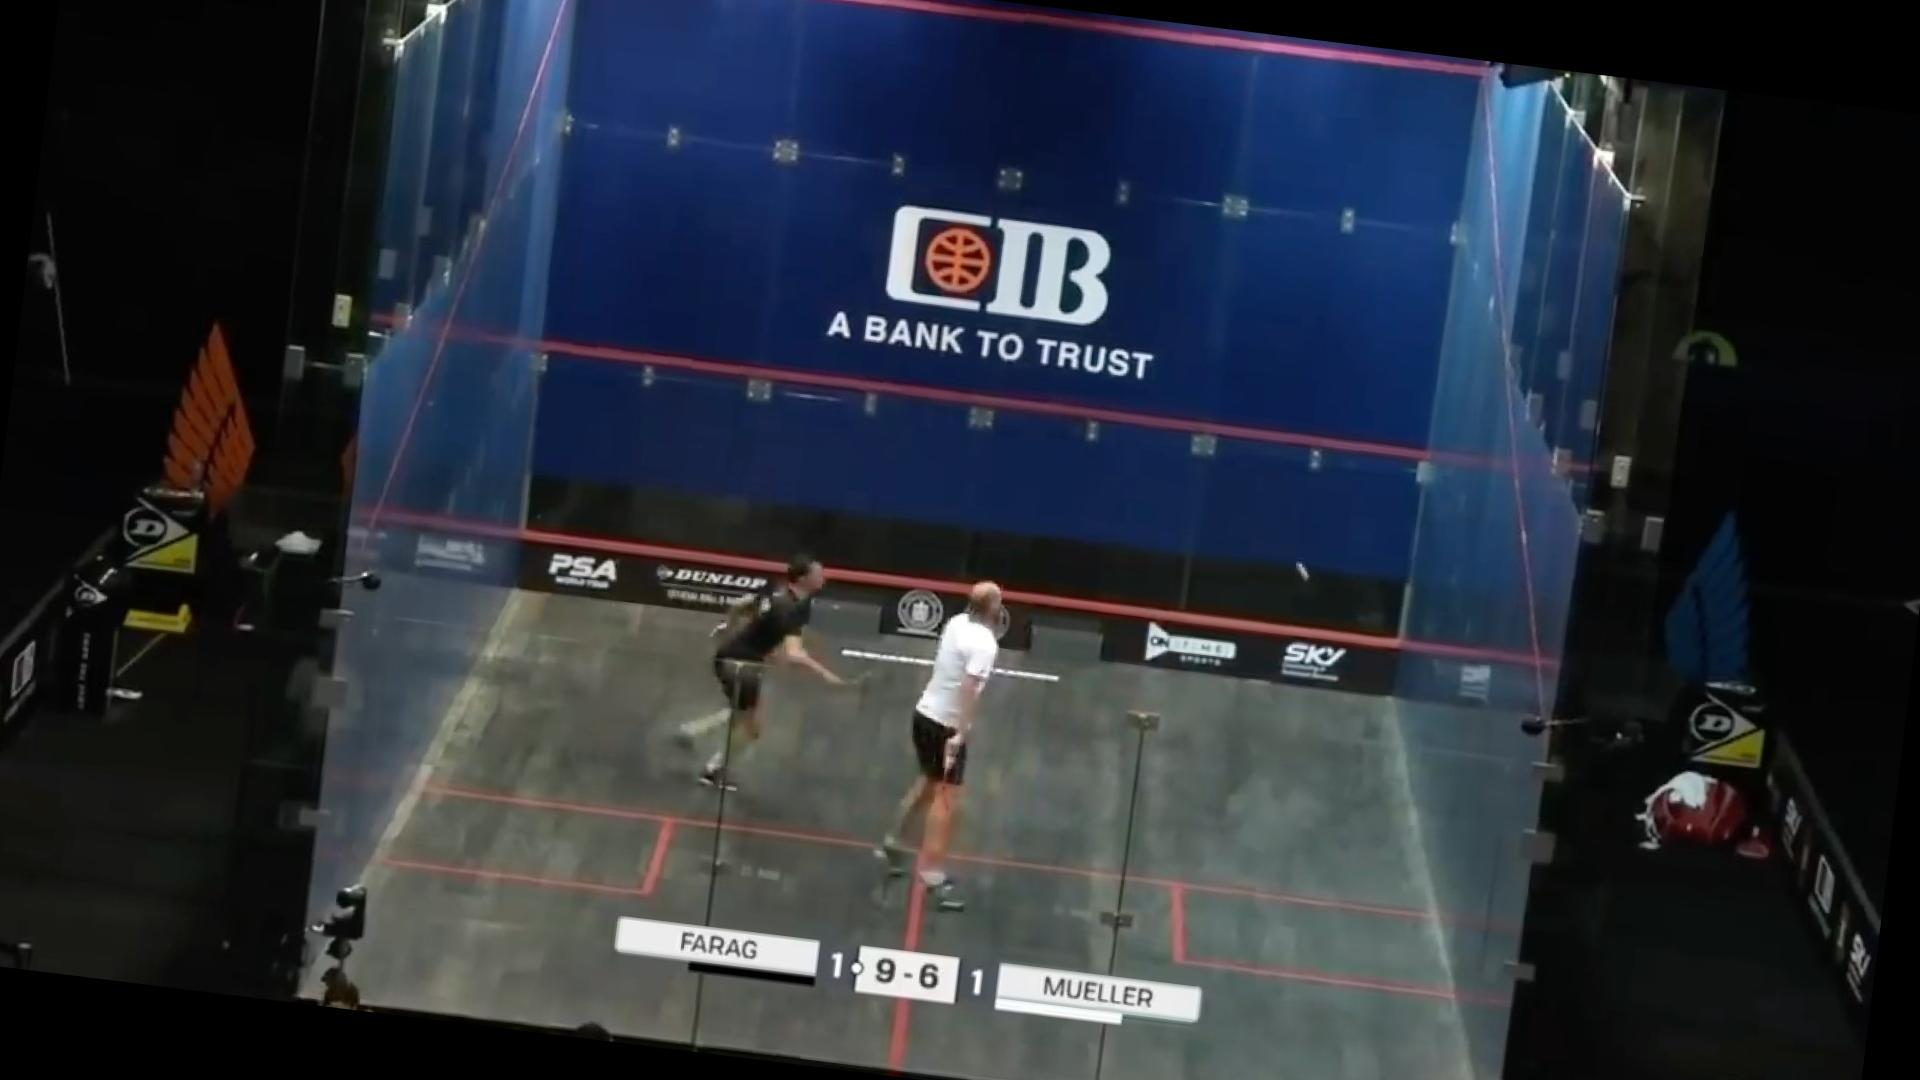Squash-Ball: (1270, 541, 1338, 607)
